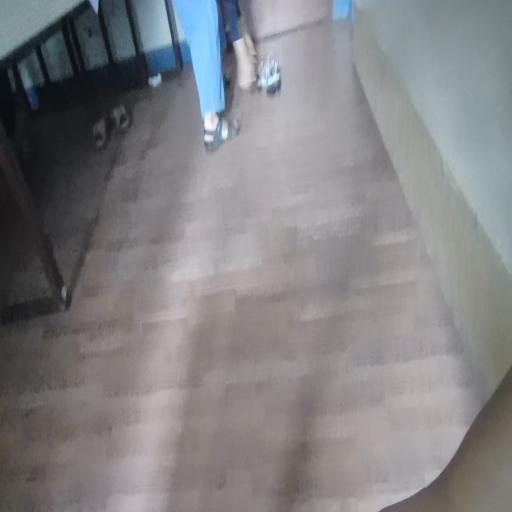car: (257, 54, 287, 102)
